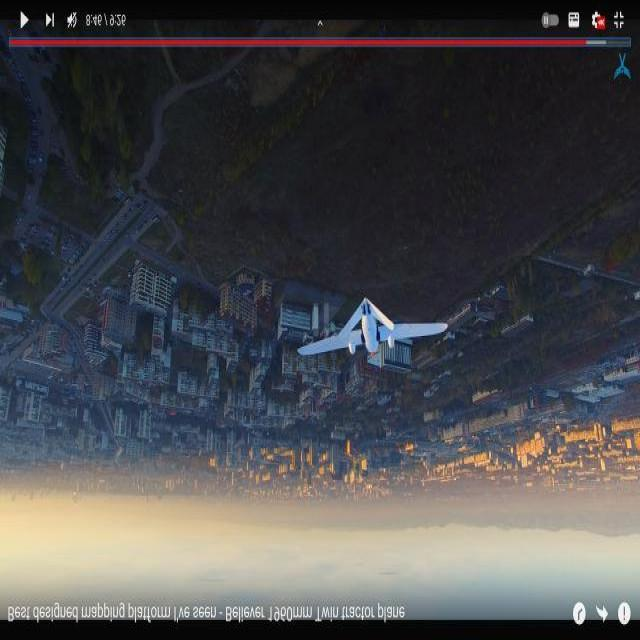UAV: (310, 288, 442, 382)
